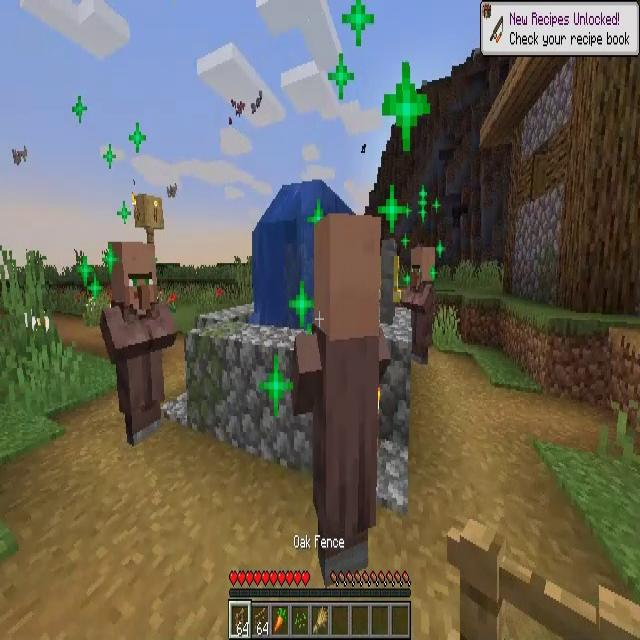people: (292, 218, 391, 590), (100, 243, 177, 448), (401, 247, 437, 363)
